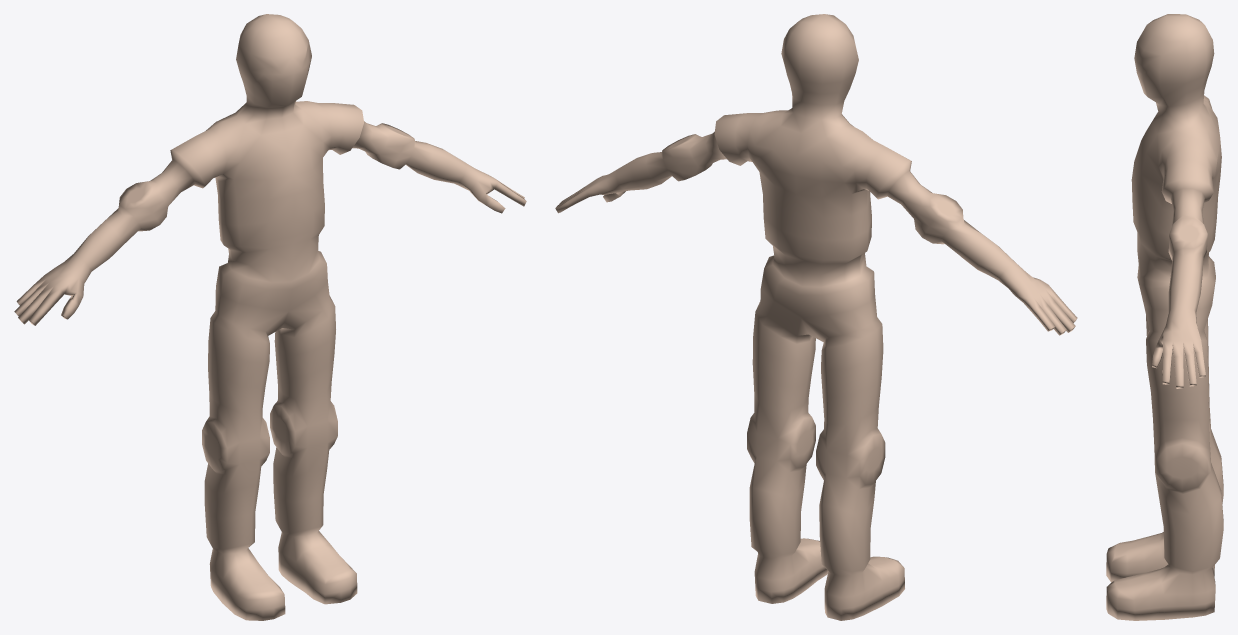
The picture shows the model from 3 angles, left to right: view 1: azimuth 30°, elevation 25°; view 2: azimuth 150°, elevation 25°; view 3: azimuth 270°, elevation 25°; orthographic projection.
Parts seen in each view (by area): view 1: RobotHumanoid:robot; view 2: RobotHumanoid:robot; view 3: RobotHumanoid:robot.
Boxes of the visible parts, box(x1,y1,x2,y2) form: RobotHumanoid:robot: box(14, 14, 526, 620); RobotHumanoid:robot: box(555, 14, 1077, 620); RobotHumanoid:robot: box(1106, 14, 1223, 620).
Size of the model in its own units: 35.36 by 38.1 by 7.06.
